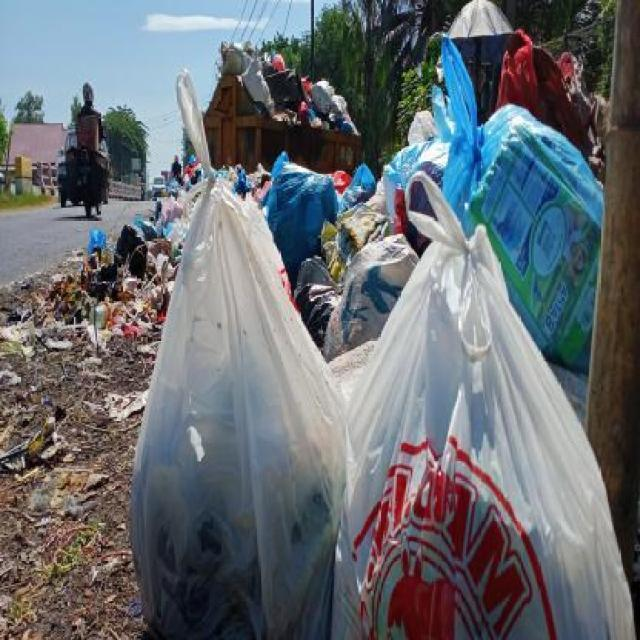Plastic_Bag: (332, 159, 638, 639), (127, 61, 347, 640)
